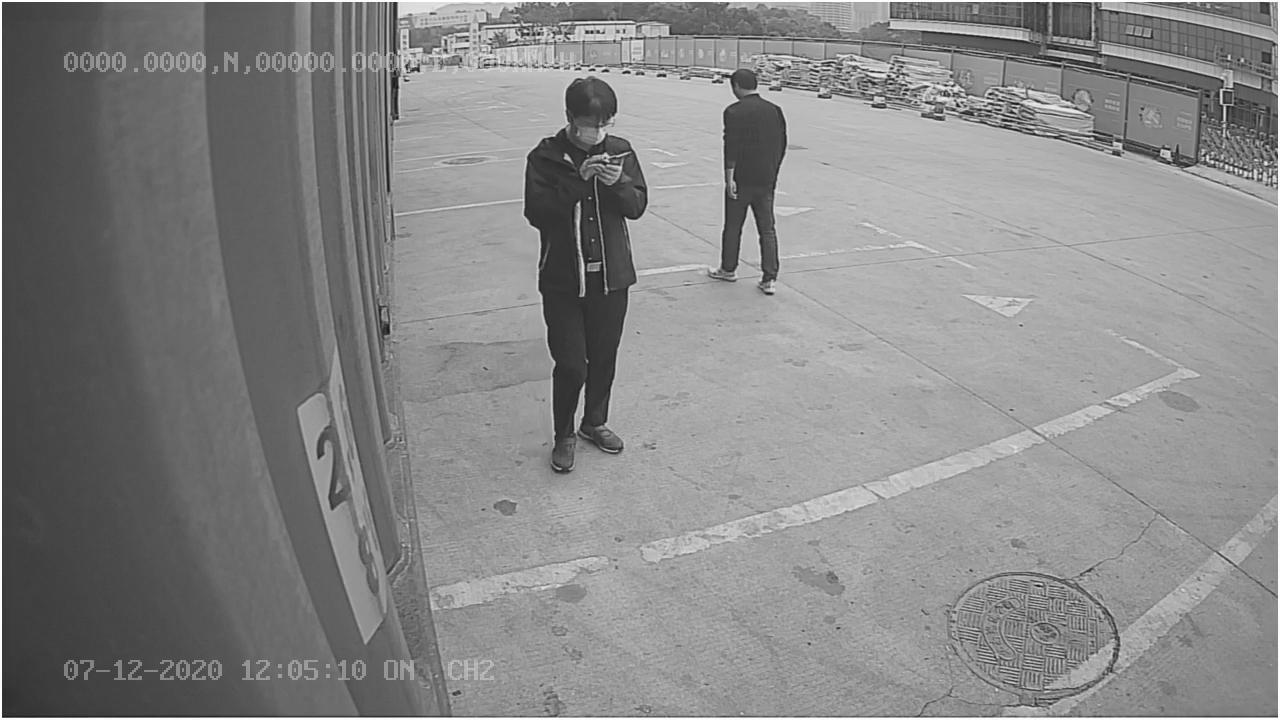person: (520, 69, 649, 471), (703, 66, 796, 294)
